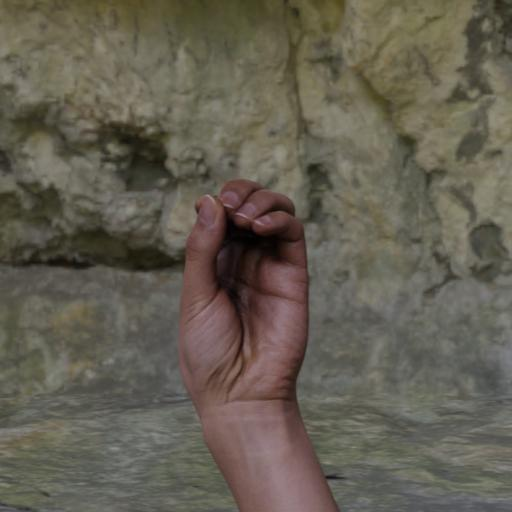O: (140, 147, 334, 416)
